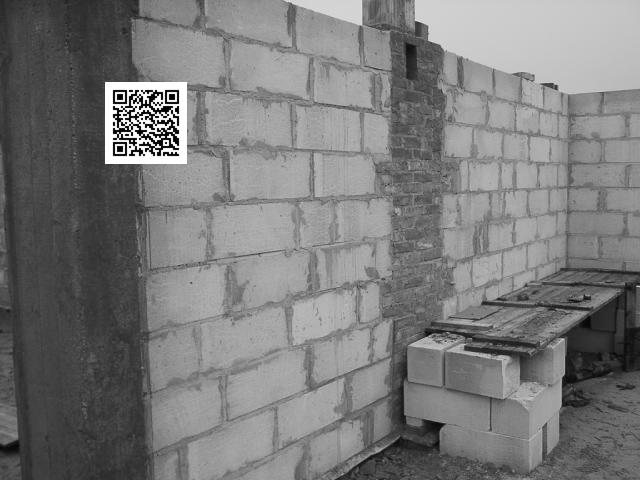qr_code: (104, 81, 186, 164)
